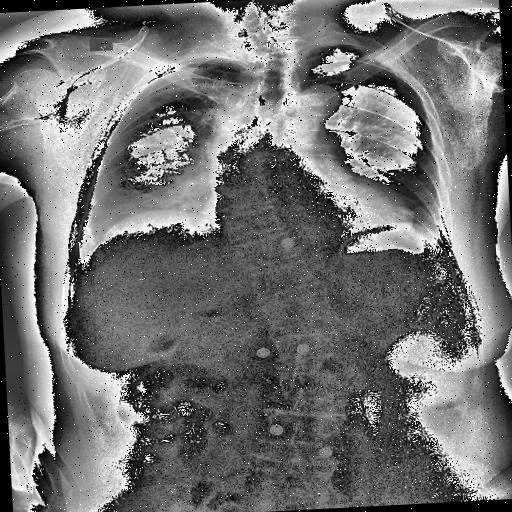0- Aortic enlargement: (285, 84, 342, 126), (297, 84, 343, 118)
13- Pulmonary fibrosis: (158, 56, 214, 100)
3- Cardiomegaly: (192, 174, 418, 251), (198, 186, 414, 248), (198, 184, 414, 235)
6- Infiltration: (158, 56, 214, 100)
7- Lung Opacity: (204, 98, 250, 168)
9- Other lesion: (208, 40, 301, 257), (204, 98, 250, 168), (158, 56, 214, 100)
